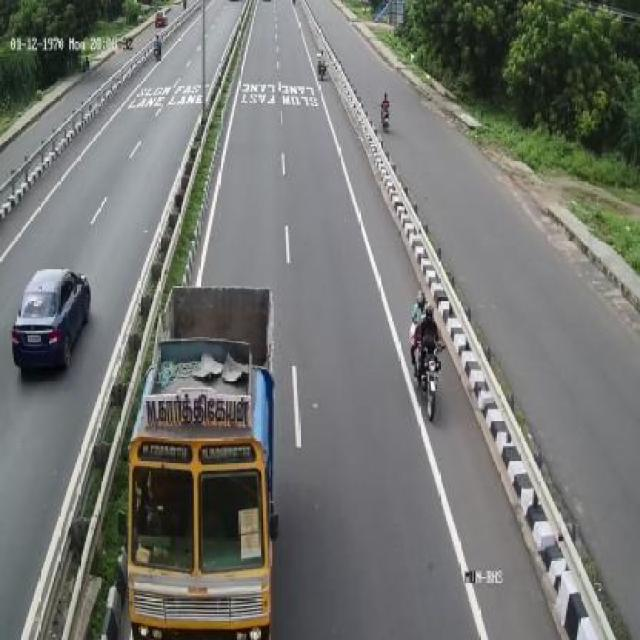car: (12, 263, 96, 379)
